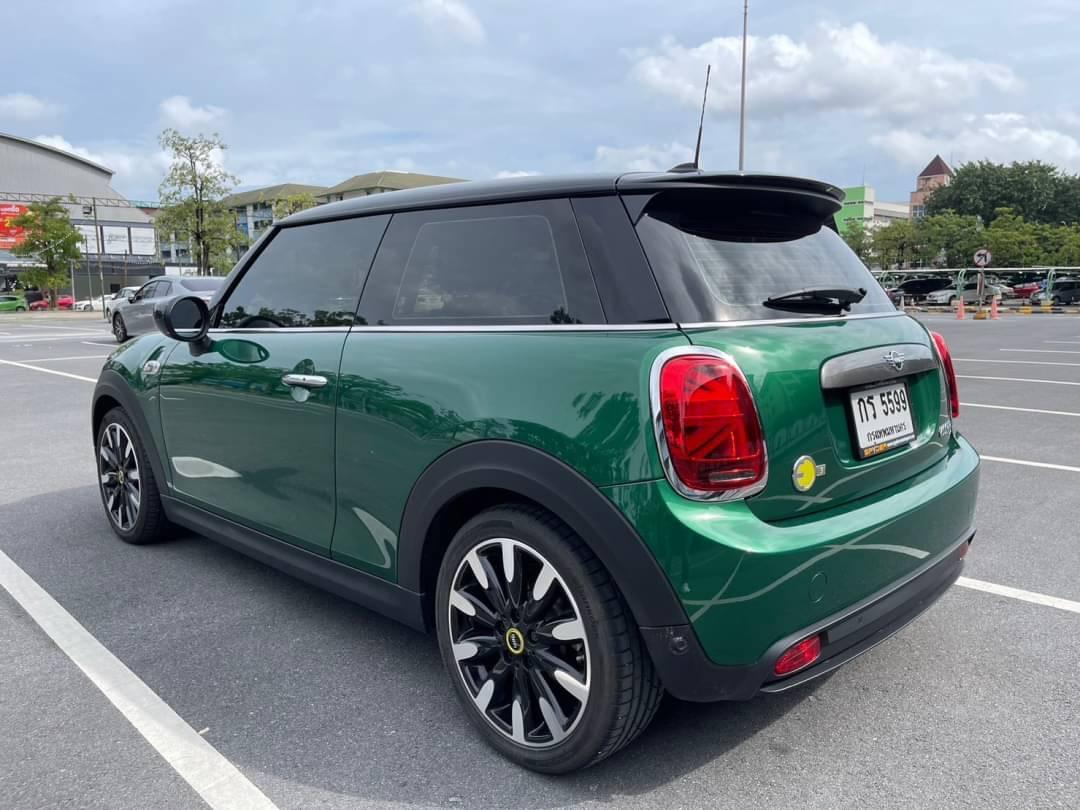license-plate: (845, 374, 918, 466)
